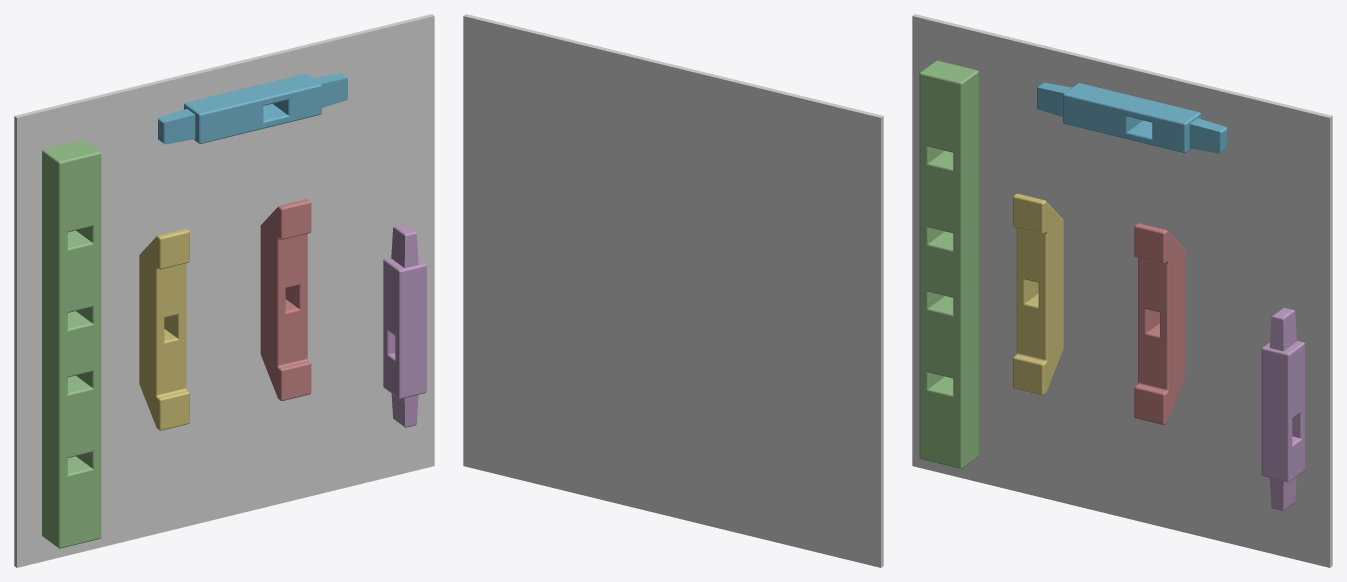
Rendered from pickup_layout.glb.
3 views of the same model, side by side, from view 1: azimuth 30°, elevation 25°; view 2: azimuth 150°, elevation 25°; view 3: azimuth 330°, elevation 25° (orthographic).
Parts seen in each view (by area): view 1: world, 6.obj, 0.obj, 1.obj, 2.obj, 3.obj; view 2: world; view 3: world, 6.obj, 1.obj, 0.obj, 2.obj, 3.obj.
Part boxes in pixels (x1,y1,x2,y2): world: (14,14,434,567); 6.obj: (42,140,101,548); 0.obj: (260,199,311,400); 1.obj: (139,228,189,430); 2.obj: (158,73,347,144); 3.obj: (383,224,426,427); world: (463,14,883,567); world: (912,14,1332,567); 6.obj: (919,60,978,468); 1.obj: (1013,193,1063,395); 0.obj: (1134,223,1184,425); 2.obj: (1037,82,1226,153); 3.obj: (1261,307,1304,510).
Size of the model in its own units: 17.21 by 17.72 by 1.72.
